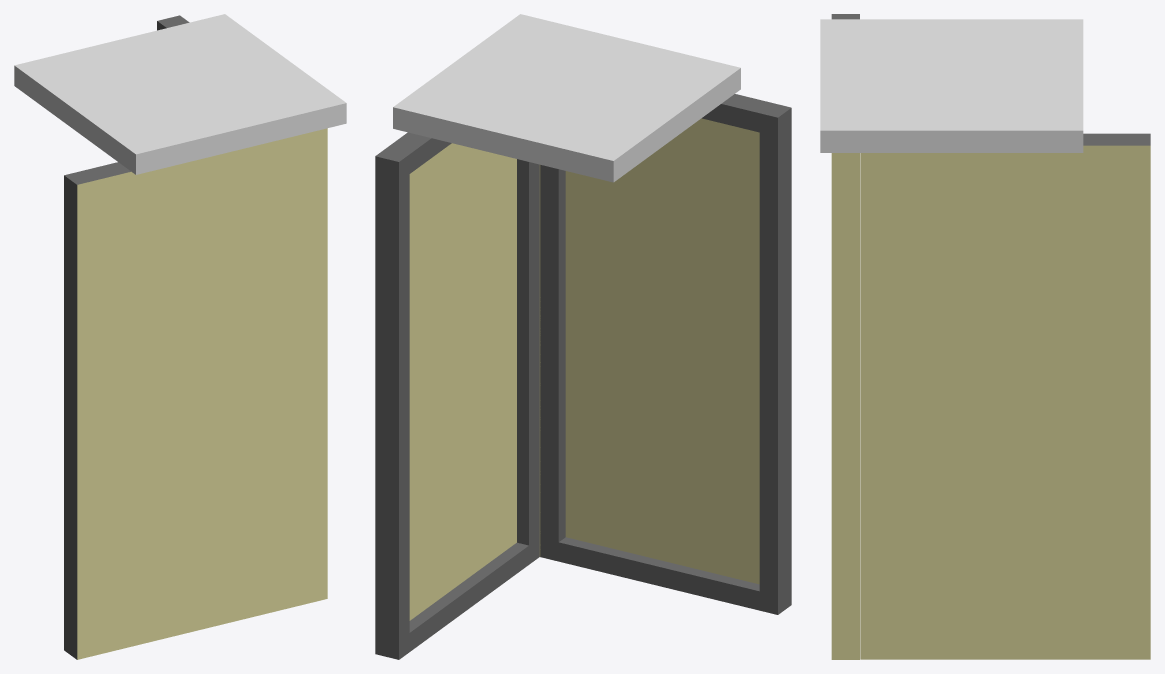
The model's file is Corner Counter Connector.glb.
The picture shows the model from 3 angles, left to right: view 1: azimuth 30°, elevation 25°; view 2: azimuth 150°, elevation 25°; view 3: azimuth 270°, elevation 25°; orthographic projection. The views are drawn at different scales.
Parts seen in each view (by area): view 1: Corner Counter Connector; view 2: Corner Counter Connector; view 3: Corner Counter Connector.
Part boxes in pixels (<box>): Corner Counter Connector: <box>14,14,346,659</box>; Corner Counter Connector: <box>375,14,791,659</box>; Corner Counter Connector: <box>820,14,1150,659</box>.
Bounding box in the file's own units: 0.5579 × 1 × 0.5582.
